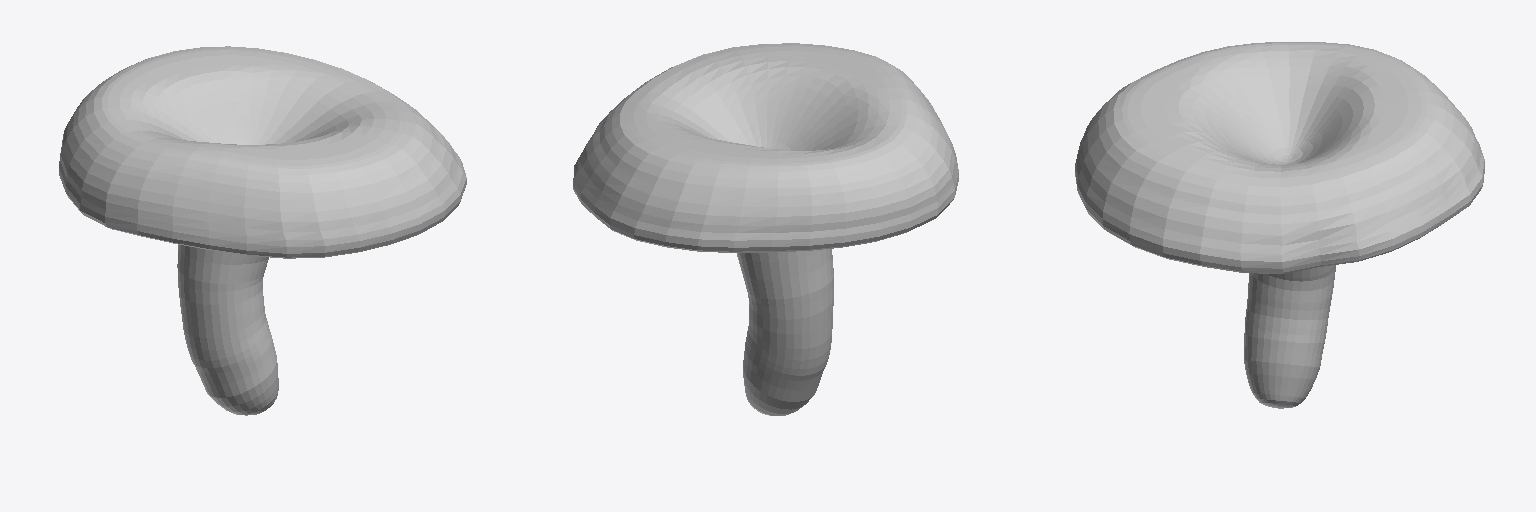
Rendered from gruzd-nastoyashhij.obj.
3 renders of one model, left to right at view 1: azimuth 30°, elevation 25°; view 2: azimuth 150°, elevation 25°; view 3: azimuth 270°, elevation 25°, orthographic.
Parts seen in each view (by area): view 1: Cylinder; view 2: Cylinder; view 3: Cylinder.
Boxes of the visible parts, <box> form: Cylinder: <box>59,46,466,415</box>; Cylinder: <box>573,43,958,415</box>; Cylinder: <box>1075,42,1484,408</box>.
Bounding box in the file's own units: 2.83 × 2.42 × 2.91.